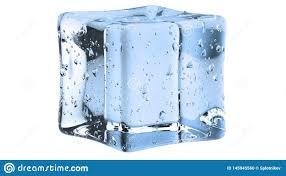cube: (58, 6, 226, 152)
